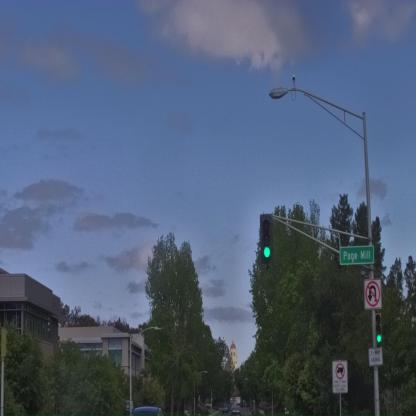car: (130, 406, 165, 416)
